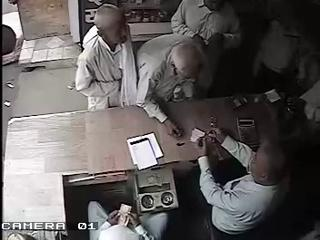Normal: (196, 105, 292, 240), (135, 33, 211, 137), (169, 0, 245, 96), (96, 207, 161, 240)
shoplifting: (74, 3, 138, 111)
